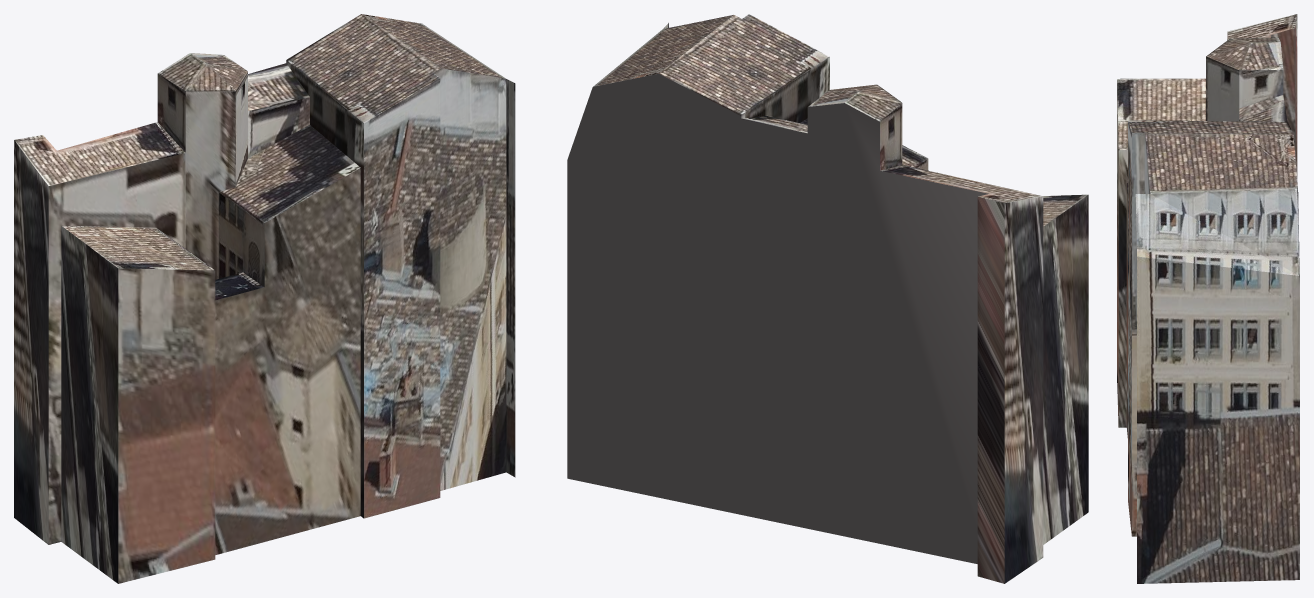
3 views of the same model, side by side, from view 1: azimuth 30°, elevation 25°; view 2: azimuth 150°, elevation 25°; view 3: azimuth 270°, elevation 25° (orthographic). The views are drawn at different scales.
Parts seen in each view (by area): view 1: Z_UP; view 2: Z_UP; view 3: Z_UP.
Part boxes in pixels (left/top/right/bottom): Z_UP: left=14, top=14, right=515, bottom=583; Z_UP: left=567, top=14, right=1088, bottom=583; Z_UP: left=1117, top=14, right=1299, bottom=583.
Size of the model in its own units: 25.03 by 23.23 by 9.3.
2 materials, 1 textured.
